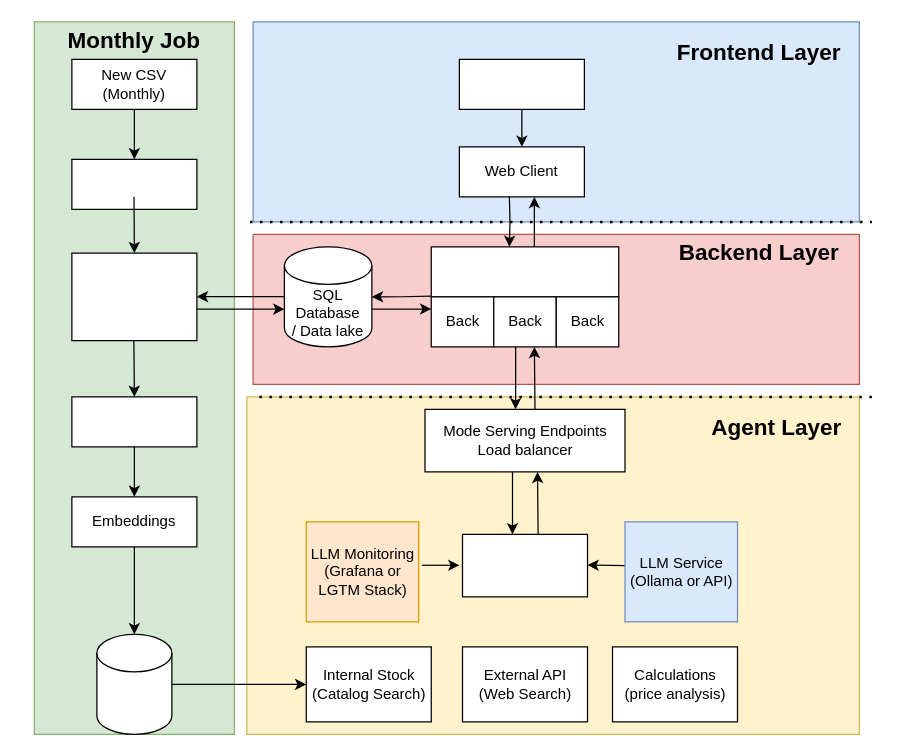
Image size: 901x756. Some labels were removed from this diagram. Each missing label, with the centre of its shape:
"Check last_updated for each products" belongs at (134,296).
"Chunking" belongs at (134,421).
"Data Preprocessing" belongs at (134,183).
"FastAPI Backend Service Group" belongs at (524,271).
"LLM Router (Query Analysis)" belongs at (524,565).
"User" belongs at (521,83).
"Vector Database" belongs at (134,683).
